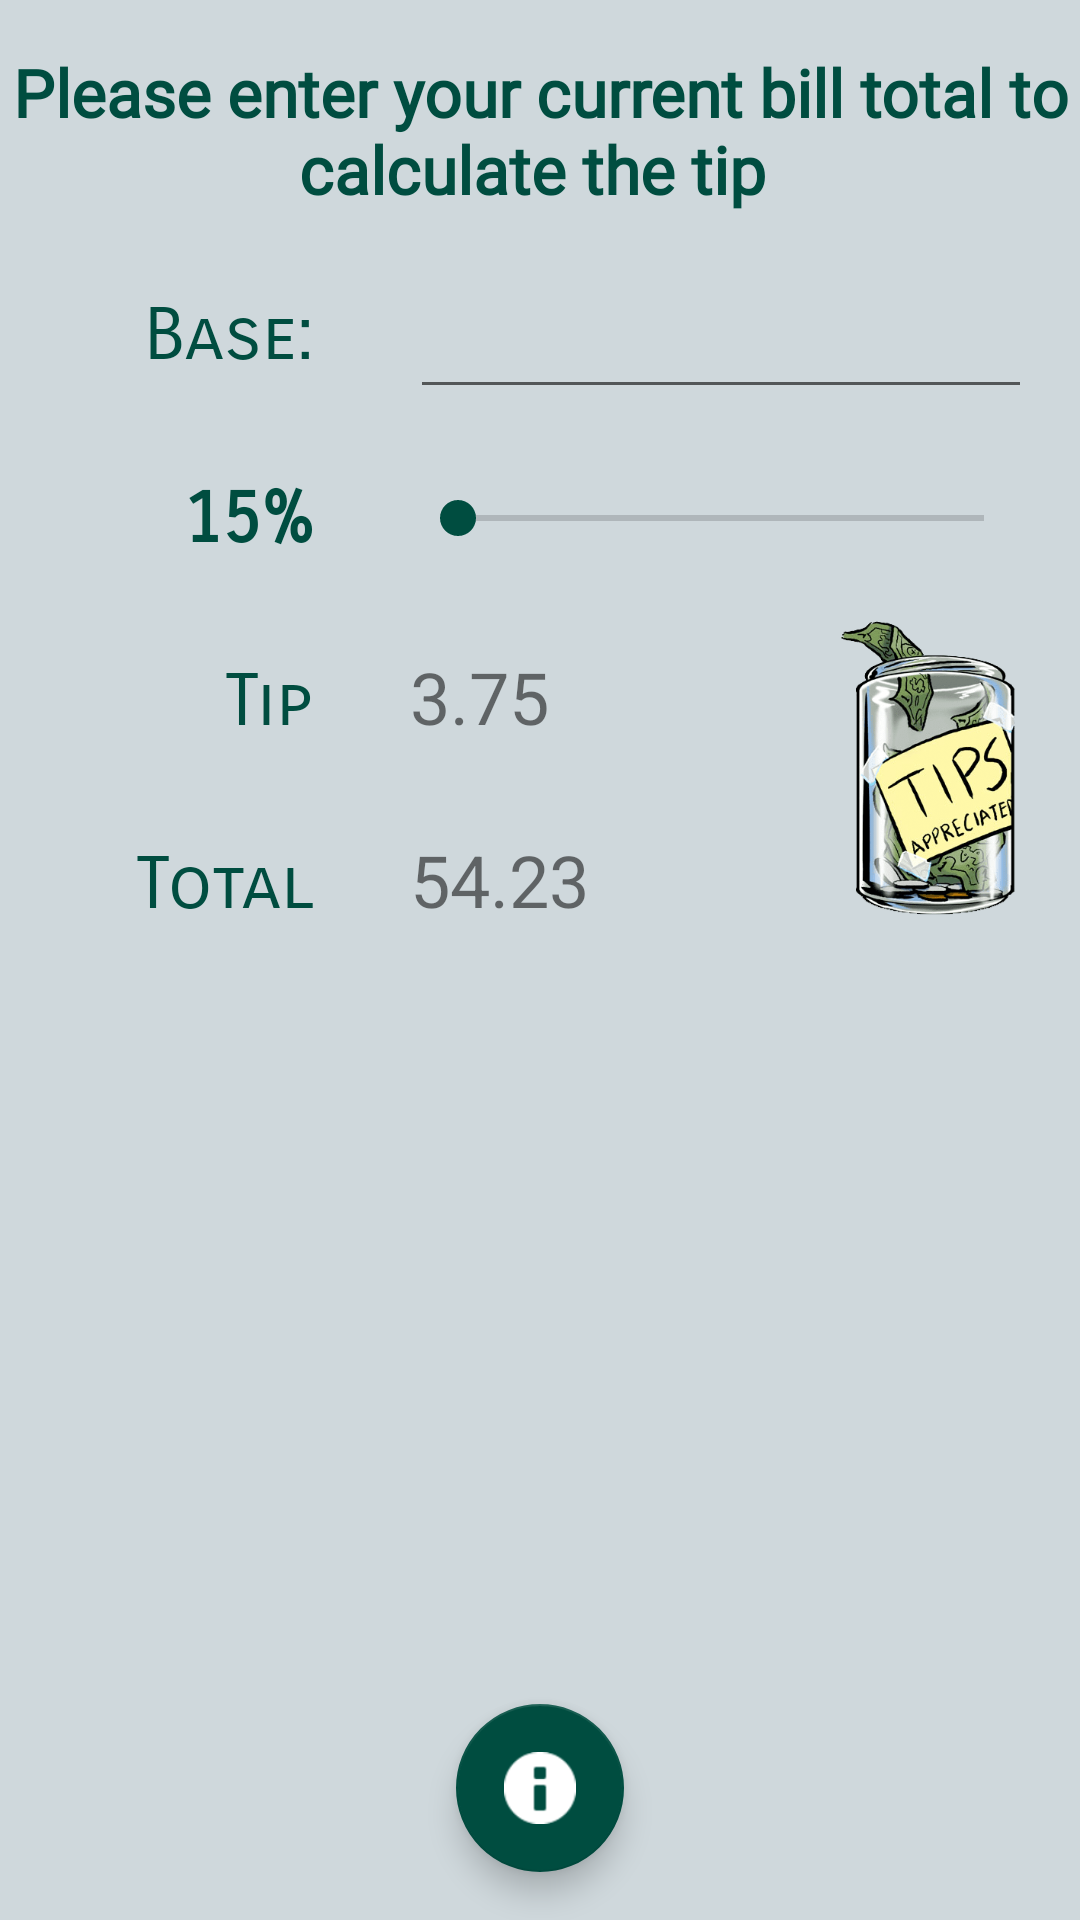

Named icons in this screenshot (1080w x 1920h) and their bounding boxes, (x1, y1, x2, y2):
info: (456, 1704, 624, 1872)
